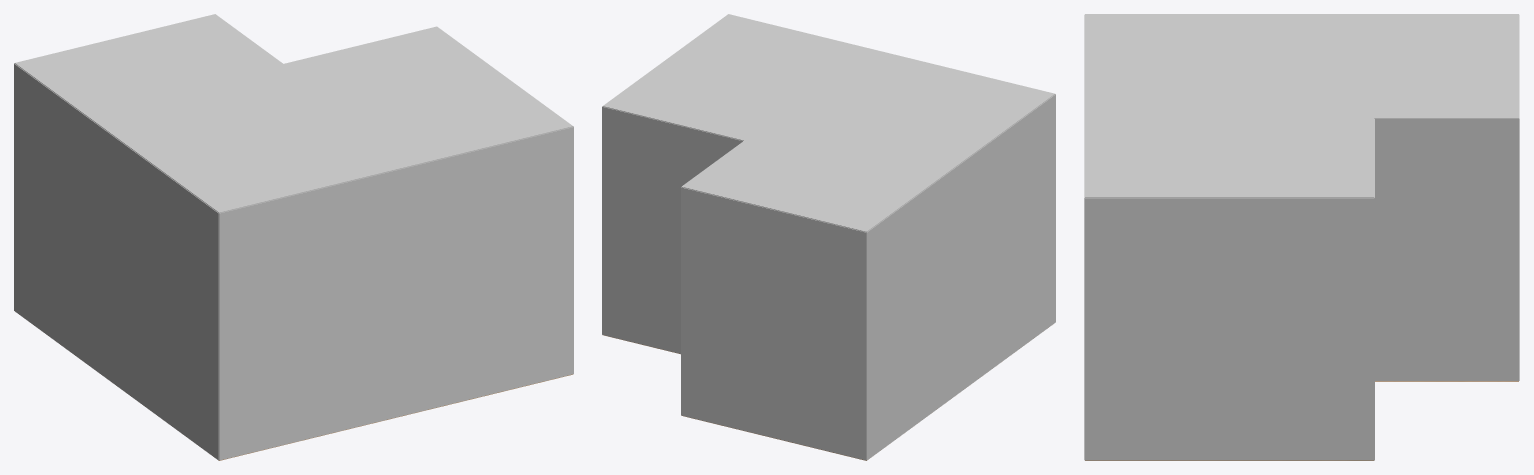
The model's file is rooms.glb.
The picture shows the model from 3 angles, left to right: view 1: azimuth 30°, elevation 25°; view 2: azimuth 150°, elevation 25°; view 3: azimuth 270°, elevation 25°; orthographic projection. The views are drawn at different scales.
Parts seen in each view (by area): view 1: Front wall, Left Wall, Main Ceiling, Joe's Ceiling; view 2: Left Wall, Joe's Room Front Wall, Main Ceiling, Back Wall, Joe's Ceiling; view 3: Right Wall, Main Ceiling, Joe's Room Right Wall, Joe's Ceiling, Front wall.
Part boxes in pixels (bbox=[...]): Front wall: bbox=[219, 127, 573, 460]; Left Wall: bbox=[14, 63, 218, 460]; Main Ceiling: bbox=[83, 26, 573, 213]; Joe's Ceiling: bbox=[14, 14, 282, 112]; Left Wall: bbox=[866, 94, 1055, 460]; Joe's Room Front Wall: bbox=[681, 187, 866, 460]; Main Ceiling: bbox=[602, 14, 1054, 185]; Back Wall: bbox=[602, 106, 743, 353]; Joe's Ceiling: bbox=[681, 140, 929, 232]; Right Wall: bbox=[1085, 198, 1374, 460]; Main Ceiling: bbox=[1085, 14, 1374, 197]; Joe's Room Right Wall: bbox=[1374, 118, 1518, 380]; Joe's Ceiling: bbox=[1374, 14, 1518, 118]; Front wall: bbox=[1084, 14, 1084, 460].
Bounding box in the file's own units: 30.1 × 20.1 × 30.1.
Materials: 6 (1 with a texture image).
